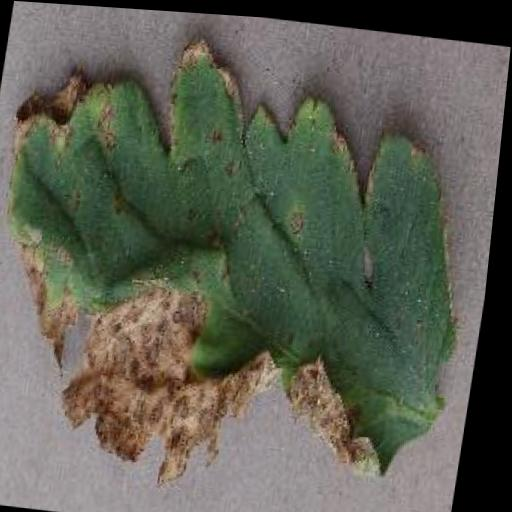Bacterial Spot: (0, 10, 506, 512)
